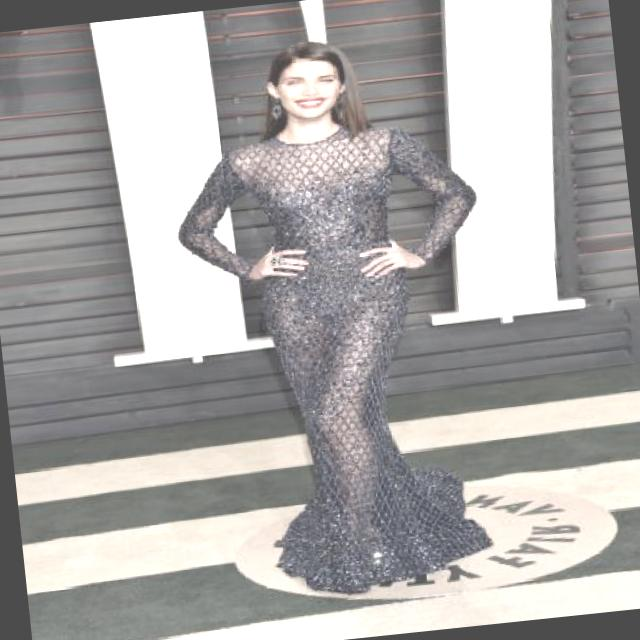Person: (146, 0, 534, 612)
